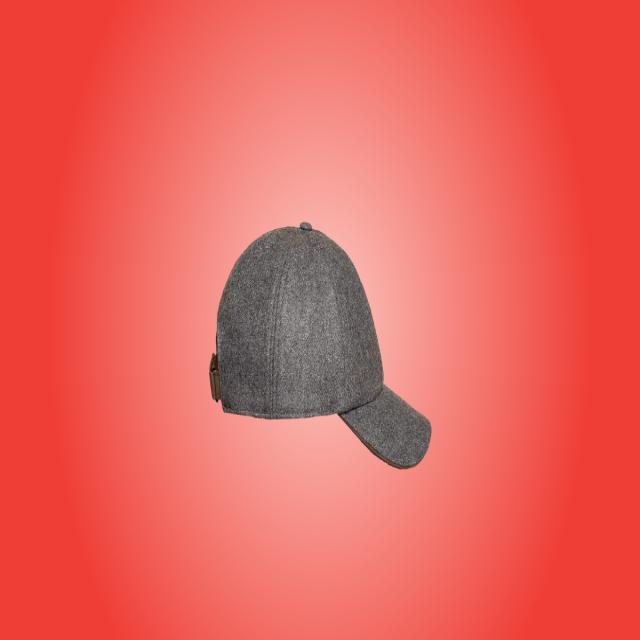suspicious-objects: (210, 222, 431, 469)
